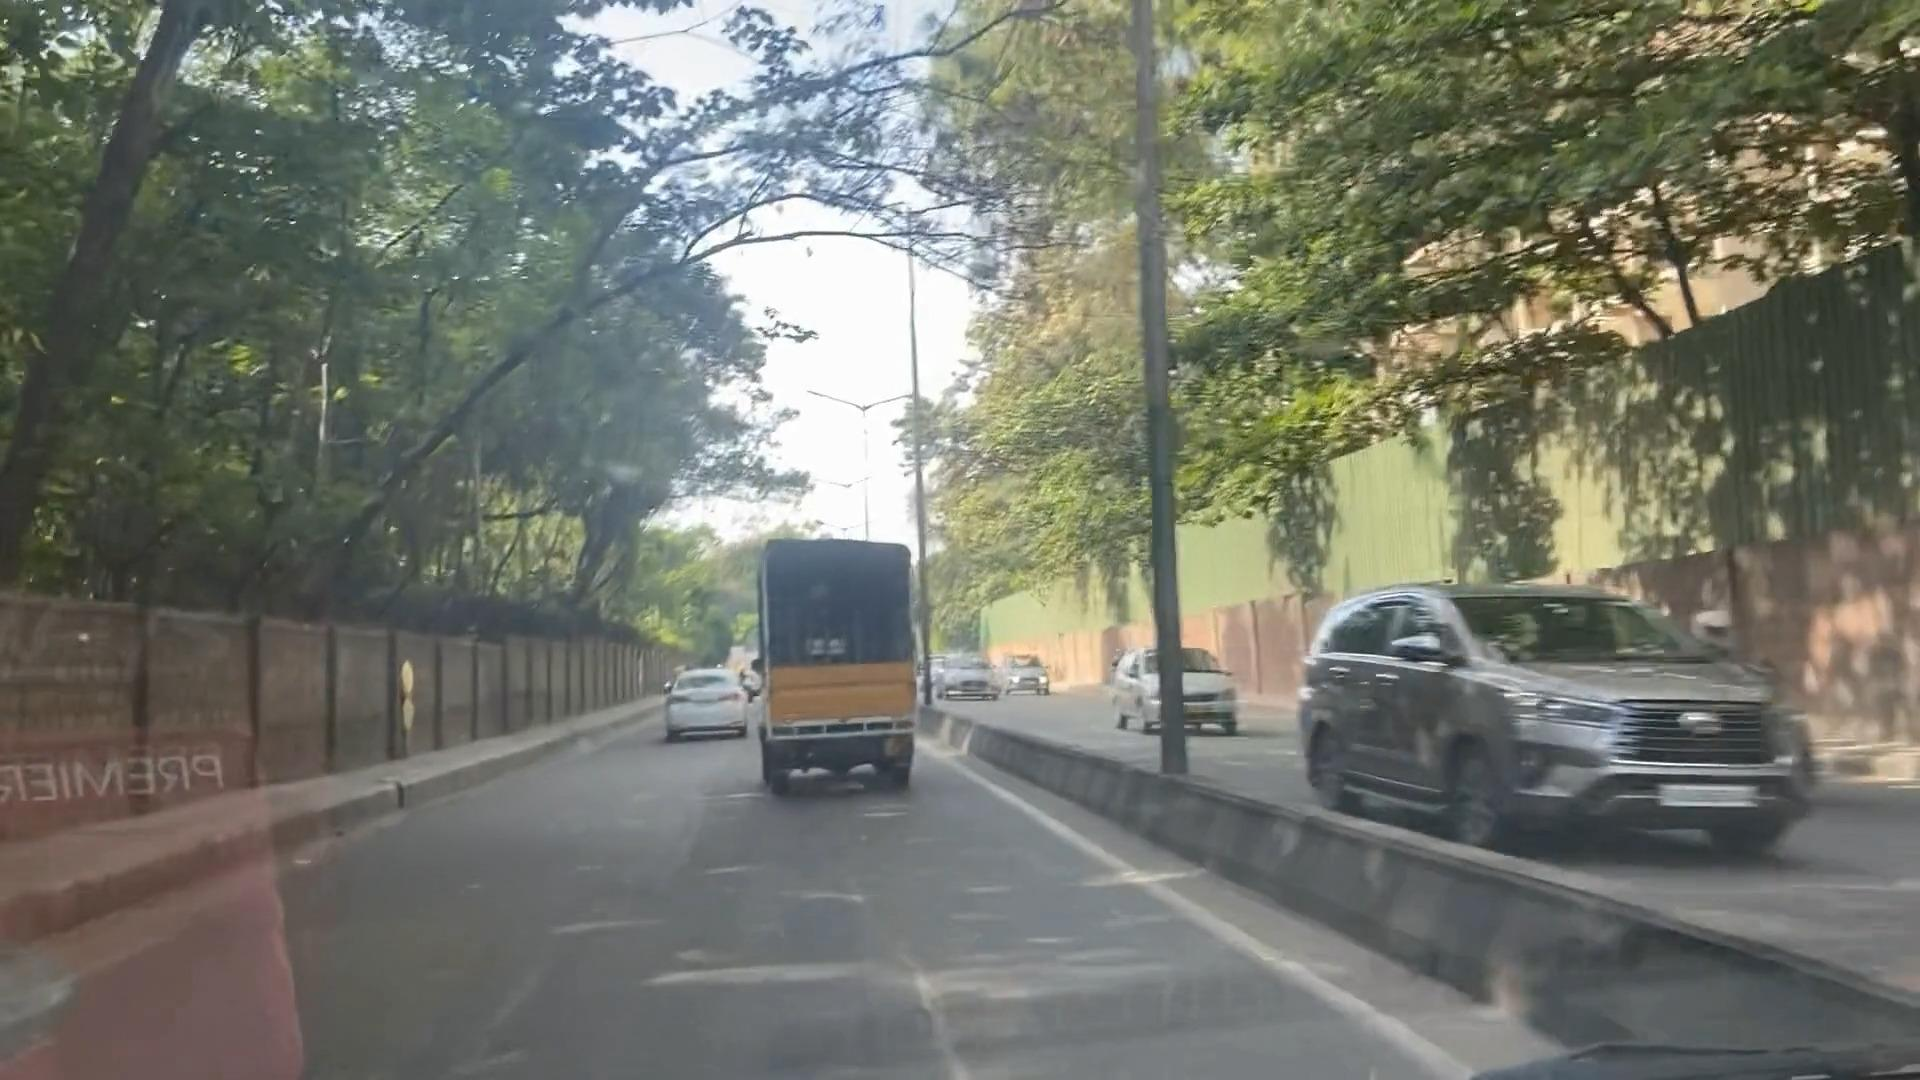HMV: (742, 520, 924, 796)
